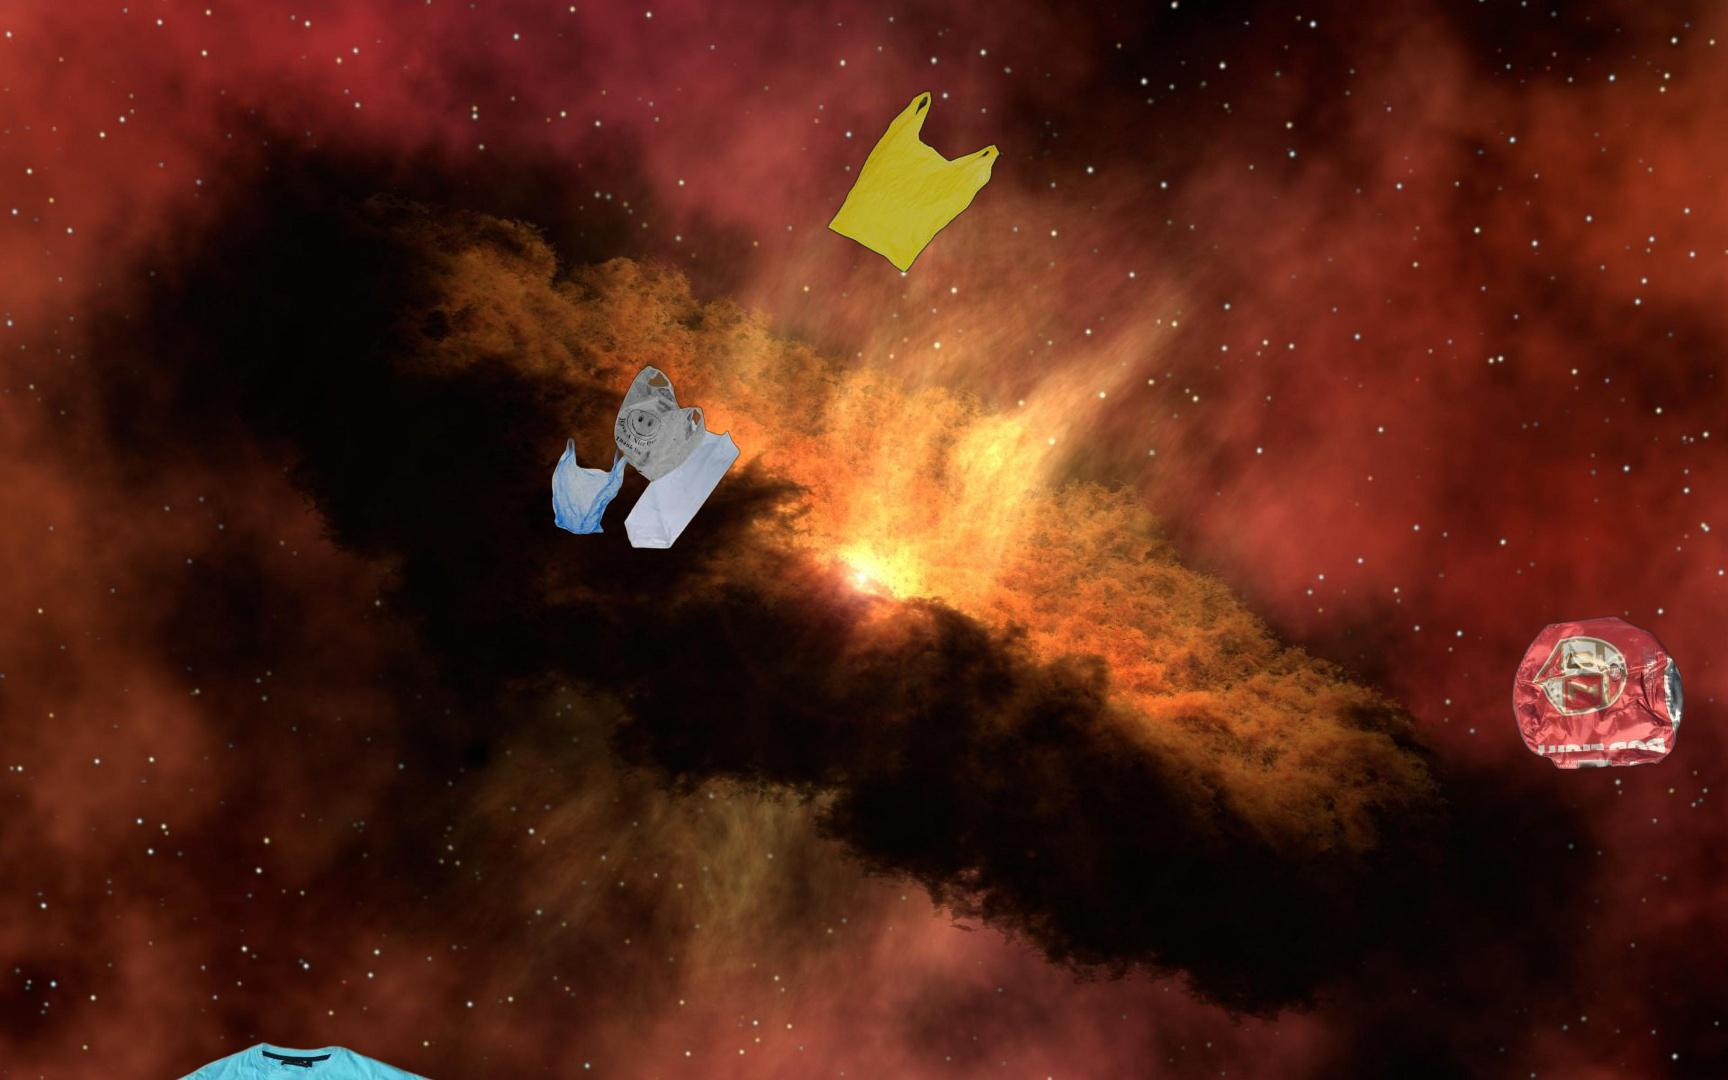clothes: (101, 1036, 491, 1080)
metal-cans: (1508, 613, 1689, 773)
plastic-bag: (549, 365, 743, 552), (826, 88, 1006, 274)
